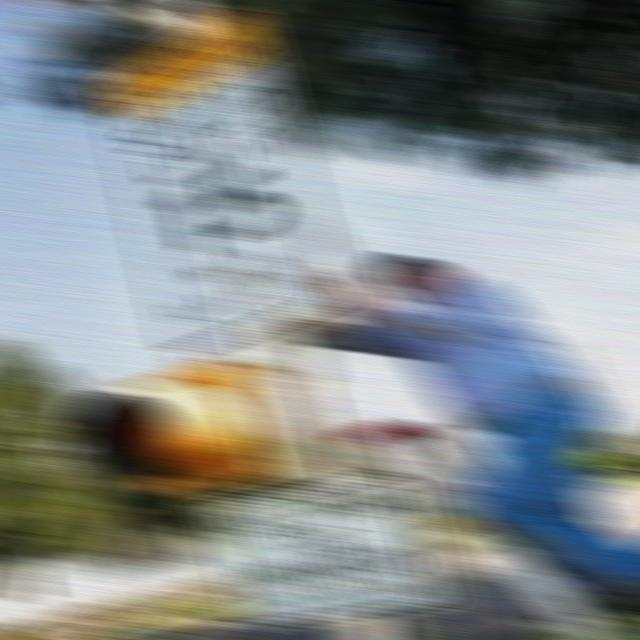speedLimit15: (116, 53, 322, 271)
